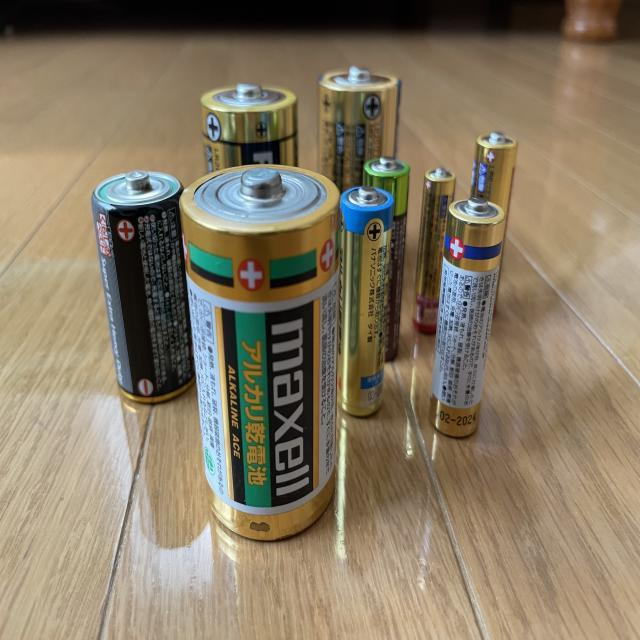hazardous waste: (174, 164, 346, 547), (81, 160, 216, 410), (422, 190, 510, 443), (330, 173, 398, 426), (306, 54, 412, 213), (198, 74, 310, 201), (457, 126, 524, 337), (358, 150, 414, 369), (406, 162, 464, 340)
